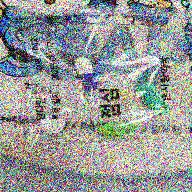러키펜정: (40, 115, 65, 134)
씨엠지세파클러캡슐: (74, 56, 99, 92)
에르도캡슐: (138, 82, 171, 115)
휴티렌정: (98, 122, 136, 138)
